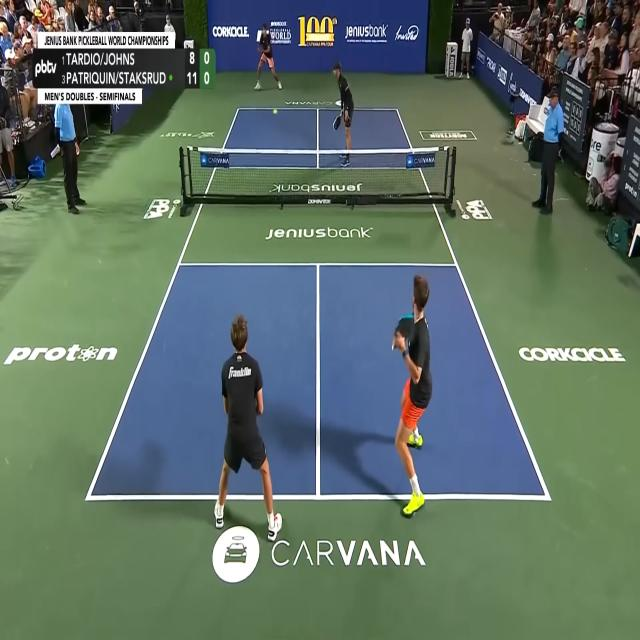ball: (272, 108, 278, 115)
